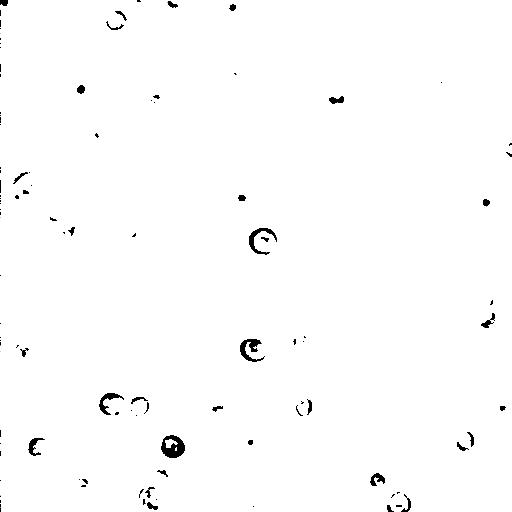micro-algae: (10, 67, 91, 147), (360, 48, 439, 128), (69, 412, 146, 487), (10, 359, 72, 419), (1, 123, 59, 183), (6, 474, 75, 511), (150, 316, 199, 366), (46, 0, 121, 26), (117, 378, 162, 420), (1, 182, 48, 221), (172, 347, 214, 390), (465, 181, 505, 222), (106, 357, 143, 394), (65, 73, 100, 108), (486, 67, 512, 113), (75, 119, 108, 154), (214, 61, 250, 93), (116, 215, 148, 248), (235, 0, 280, 23), (472, 284, 504, 315), (15, 169, 45, 202), (247, 226, 279, 256), (136, 484, 170, 512), (316, 87, 352, 112), (471, 151, 498, 184), (2, 16, 21, 60), (238, 337, 270, 363), (496, 104, 512, 155), (201, 396, 230, 424), (159, 434, 188, 462), (485, 395, 512, 424), (98, 390, 126, 416), (24, 436, 54, 460), (41, 197, 67, 224), (11, 339, 36, 366), (240, 424, 263, 453), (384, 490, 413, 512), (59, 218, 84, 243), (238, 494, 270, 512), (104, 8, 128, 31), (265, 90, 288, 112), (159, 0, 192, 15), (221, 1, 246, 20), (129, 395, 151, 416), (455, 430, 475, 453), (295, 395, 314, 418), (478, 309, 498, 330), (290, 327, 308, 350), (71, 477, 93, 493), (370, 472, 388, 490), (152, 466, 170, 482), (1, 430, 12, 456), (437, 68, 450, 85), (235, 191, 249, 205), (0, 0, 16, 11)
